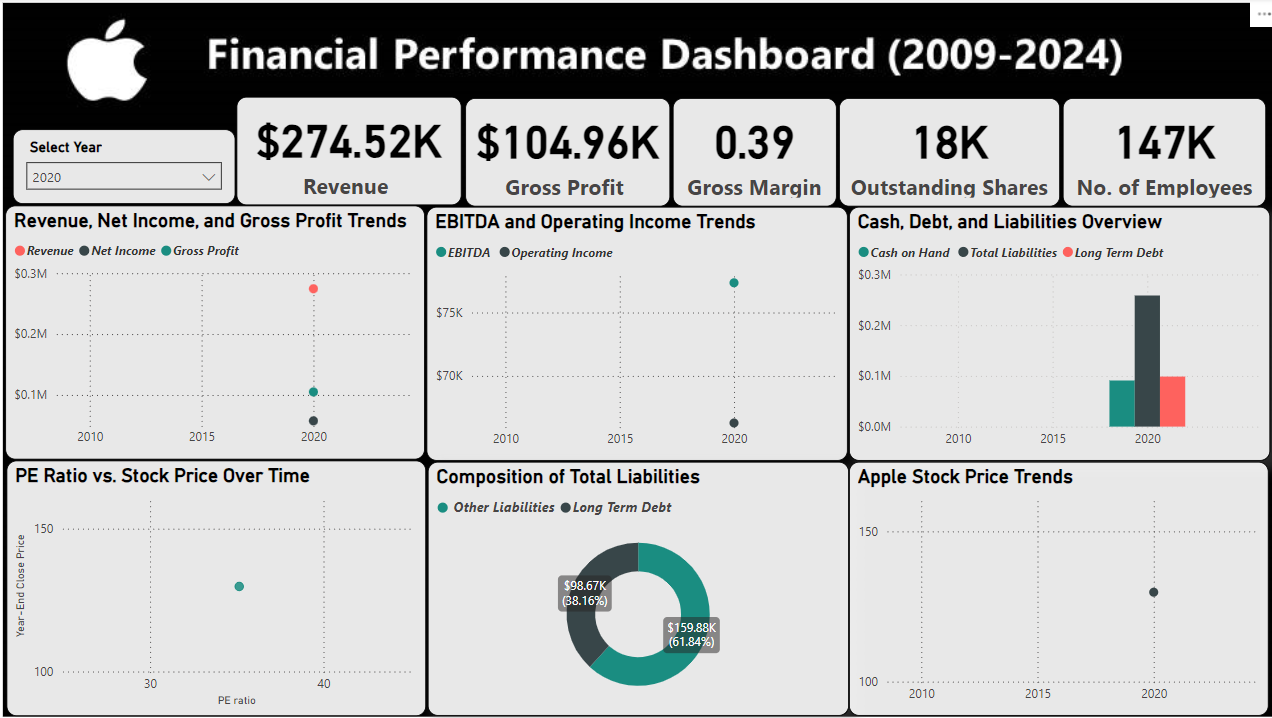

What the dashboard file says about the page in this screenshot:
{"tool":"powerbi","page":{"name":"Page 1","canvas":[1280,720],"ordinal":0},"visuals":[{"type":"image","box":[0,0,1280.3,720.4],"z":500},{"type":"lineChart","title":"Revenue, Net Income, and Gross Profit Trends","fields":{"Category":["Apple finance.year"],"Y":["Sum(Apple finance.Revenue (millions))","Sum(Apple finance.Net Income (millions))","Sum(Apple finance.Gross Profit (millions))"]},"box":[11.2,206.5,418,253],"z":1000},{"type":"lineChart","title":"EBITDA and Operating Income Trends","fields":{"Category":["Apple finance.year"],"Y":["Sum(Apple finance.EBITDA (millions))","Sum(Apple finance.Operating Income (millions))"]},"box":[430.4,207.7,419.2,253],"z":2000},{"type":"clusteredColumnChart","title":"Cash, Debt, and Liabilities Overview","fields":{"Category":["Apple finance.year"],"Y":["Sum(Apple finance.Cash on Hand (millions))","Sum(Apple finance.Total Liabilities (millions))","Sum(Apple finance.Long Term Debt (millions))"]},"box":[850.9,207.7,419.2,253],"z":3000},{"type":"donutChart","title":"Composition of Total Liabilities","fields":{"Y":["Sum(Apple finance.Other Liabilities)","Sum(Apple finance.Long Term Debt (millions))"]},"box":[431.7,461.5,419.2,252.5],"z":4000},{"type":"lineChart","title":"Apple Stock Price Trends","fields":{"Category":["Apple finance.year"],"Y":["Sum(Apple finance.Year Close Price)"]},"box":[850.9,461.5,418,253],"z":5000},{"type":"card","fields":{"Values":["Sum(Apple finance.Revenue (millions))"]},"box":[241.3,98.3,223.9,108.2],"z":6000},{"type":"card","fields":{"Values":["Sum(Apple finance.Gross Profit (millions))"]},"box":[469,99.5,204,108.2],"z":7000},{"type":"card","fields":{"Values":["Sum(Apple finance.Shares Outstanding)"]},"box":[840.9,99.5,220.2,108.2],"z":8000},{"type":"card","fields":{"Values":["Sum(Apple finance.Gross Margin)"]},"box":[675.5,99.5,163,108.2],"z":9000},{"type":"slicer","fields":{"Values":["Apple finance.year"]},"box":[18.7,130.6,221.4,74.6],"z":10000},{"type":"card","fields":{"Values":["Sum(Apple finance.Employees)"]},"box":[1063.6,99.5,202.8,108.2],"z":11000},{"type":"scatterChart","title":"PE Ratio vs. Stock Price Over Time","fields":{"X":["Sum(Apple finance.PE ratio)"],"Y":["Sum(Apple finance.Year Close Price)"],"Category":["Apple finance.year"]},"box":[12.4,460.3,418,254],"z":12000}]}

Visuals, with their boxes in screenshot pixels (x1, y1, x2, y2), scaled from the page's 1280x720 canvas onto the 1272x718 screenshot:
image: BBox(0, 0, 1271, 717)
"Revenue, Net Income, and Gross Profit Trends" lineChart: BBox(11, 206, 427, 458)
"EBITDA and Operating Income Trends" lineChart: BBox(428, 207, 844, 459)
"Cash, Debt, and Liabilities Overview" clusteredColumnChart: BBox(846, 207, 1262, 459)
"Composition of Total Liabilities" donutChart: BBox(429, 460, 846, 712)
"Apple Stock Price Trends" lineChart: BBox(846, 460, 1261, 713)
card - Sum(Apple finance.Revenue (millions)): BBox(240, 98, 462, 206)
card - Sum(Apple finance.Gross Profit (millions)): BBox(466, 99, 669, 207)
card - Sum(Apple finance.Shares Outstanding): BBox(836, 99, 1054, 207)
card - Sum(Apple finance.Gross Margin): BBox(671, 99, 833, 207)
slicer - Apple finance.year: BBox(19, 130, 239, 205)
card - Sum(Apple finance.Employees): BBox(1057, 99, 1258, 207)
"PE Ratio vs. Stock Price Over Time" scatterChart: BBox(12, 459, 428, 712)
